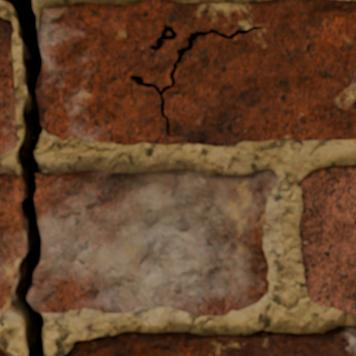brick: (39, 0, 355, 145), (66, 326, 355, 355), (300, 166, 355, 313), (0, 18, 17, 154), (0, 349, 11, 355)
broken_brick: (29, 168, 278, 316), (0, 172, 22, 313)
crack: (1, 0, 45, 355)
